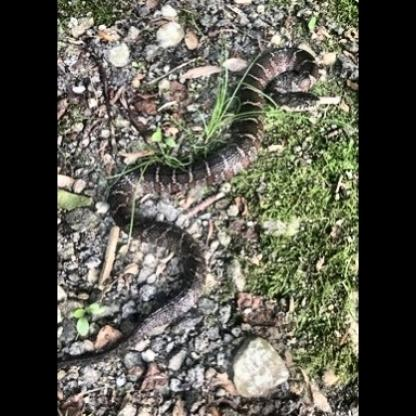Snake: (93, 4, 325, 412)
